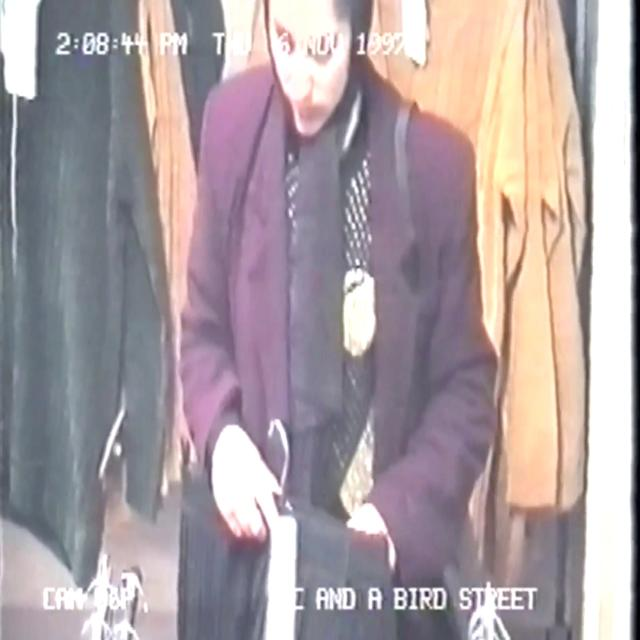Product: (158, 471, 388, 634)
shoplifting: (105, 0, 469, 640)
